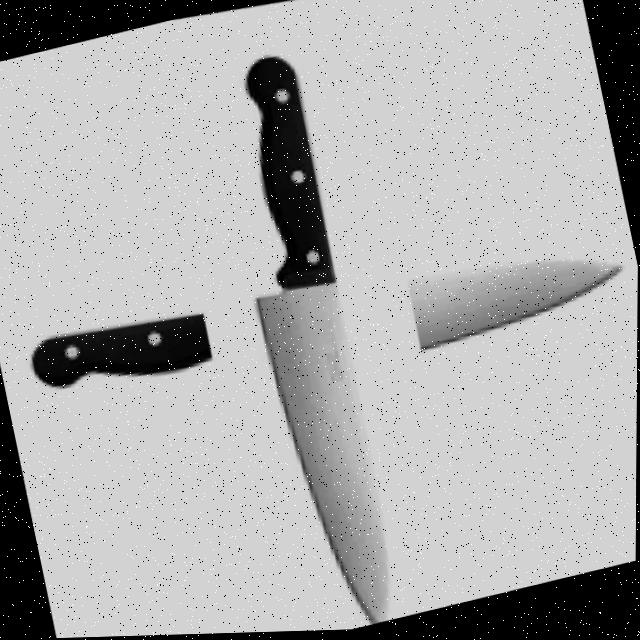knife: (23, 199, 634, 449), (199, 44, 414, 635)
